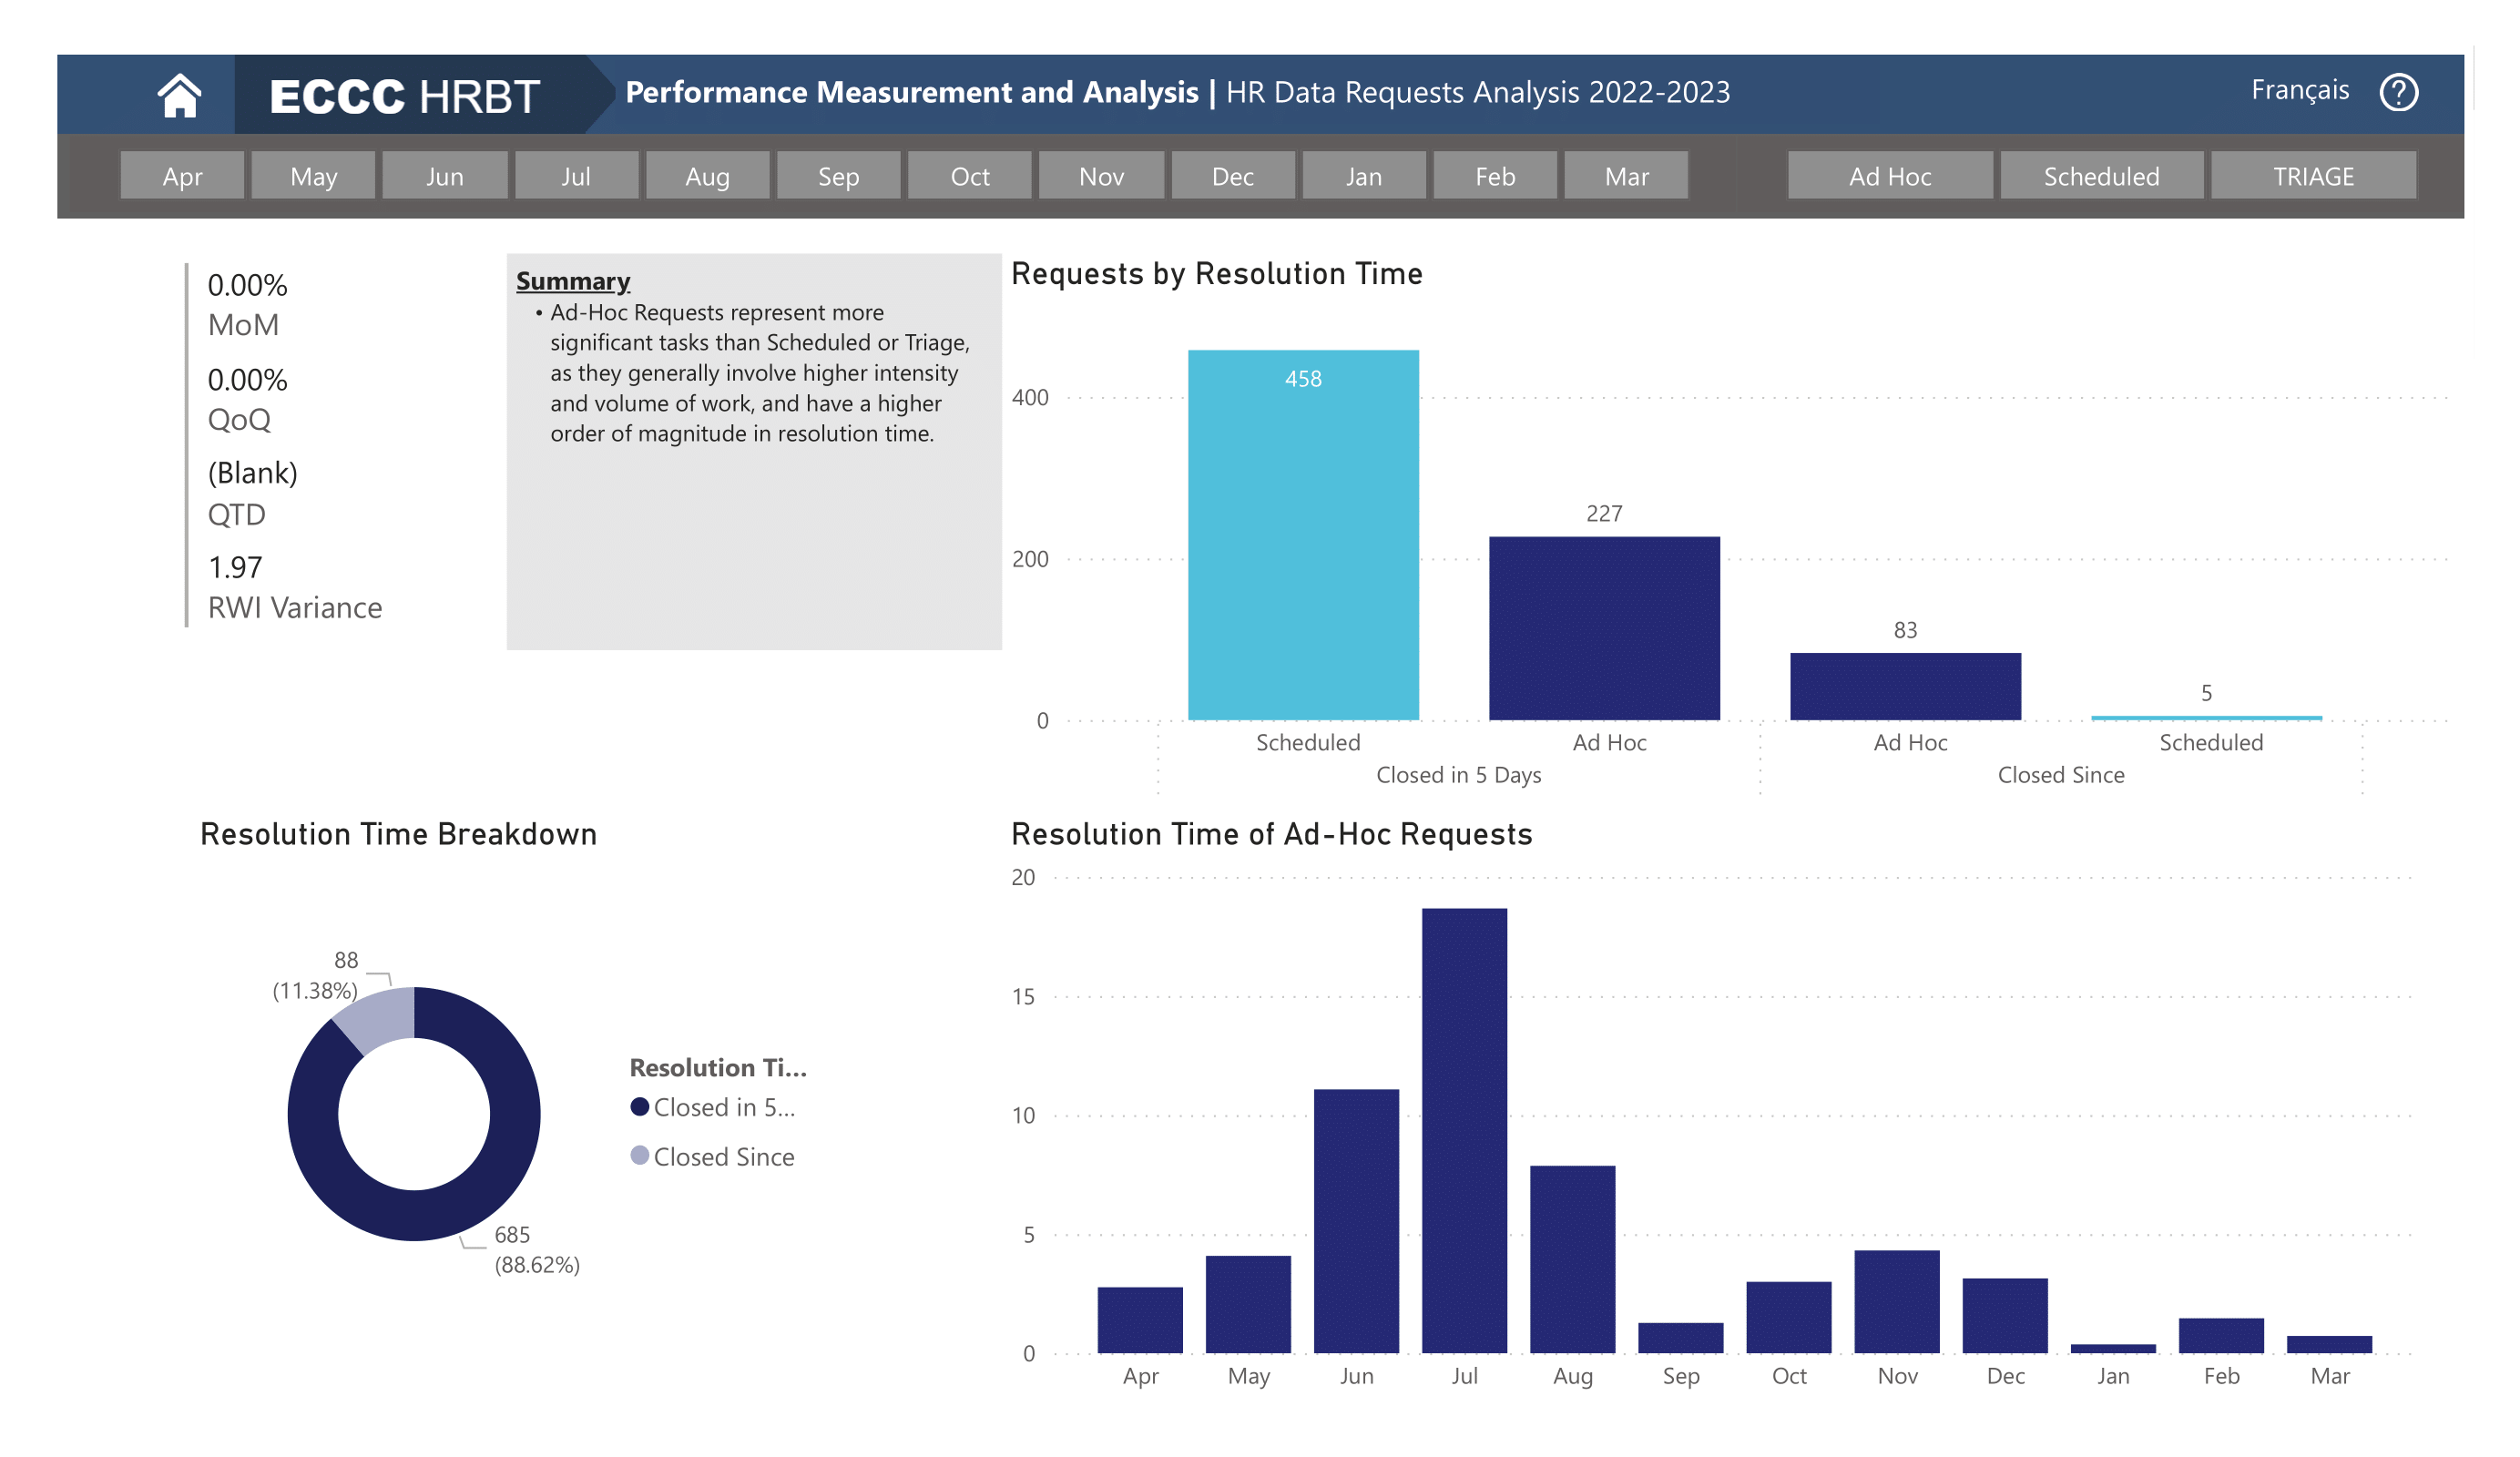

This screenshot's page, from the dashboard's own definition file:
{"tool":"powerbi","page":{"name":"Request Type Resolution","canvas":[1280,720],"ordinal":6},"visuals":[{"type":"image","box":[0.9,0,1278.3,96],"z":0},{"type":"image","box":[54.6,8.8,32.6,32.6],"z":1000},{"type":"actionButton","box":[1159.4,3.1,66.2,38.1],"z":2000},{"type":"image","box":[1225.7,8.8,30,30],"z":3000},{"type":"slicer","fields":{"Values":["MonthOrder.MonthOrderDesc"]},"box":[12.6,47.6,878.4,39.8],"z":4000},{"type":"slicer","fields":{"Values":["HR_DATA_REQUEST_REPORT.INC_CAT_N"]},"box":[891,47.6,382.8,39.8],"z":5000},{"type":"donutChart","title":"Resolution Time Breakdown","fields":{"Category":["HR_DATA_REQUEST_REPORT.CLOSEDIN5DAYS"],"Y":["CountNonNull(HR_DATA_REQUEST_REPORT.INCIDENT_REF)"]},"box":[76.7,405.6,333.3,296.7],"z":6000},{"type":"multiRowCard","fields":{"Values":["HR_DATA_REQUEST_REPORT.Count of INCIDENT_REF MoM%","HR_DATA_REQUEST_REPORT.Count of INCIDENT_REF QoQ%","HR_DATA_REQUEST_REPORT.Count of INCIDENT_REF QTD","HR_DATA_REQUEST_REPORT.Requests Weighted Index Variance"]},"box":[67.8,108.9,175.6,208.9],"z":7000},{"type":"columnChart","title":"Requests by Resolution Time","fields":{"Category":["HR_DATA_REQUEST_REPORT.CLOSEDIN5DAYS","HR_DATA_REQUEST_REPORT.INC_CAT_N"],"Y":["CountNonNull(HR_DATA_REQUEST_REPORT.INCIDENT_REF)"]},"box":[504.4,108.9,770,296.7],"z":8000},{"type":"columnChart","title":"Resolution Time of Ad-Hoc Requests","fields":{"Category":["MonthOrder.MonthOrderDesc"],"Y":["Avg(HR_DATA_REQUEST_REPORT.RESOLUTION_TIME)"]},"box":[504.4,405.6,751.1,314.4],"z":9000},{"type":"textbox","box":[243.3,108.9,261.1,208.9],"z":10000},{"type":"textbox","box":[300,8,666,33],"z":11000}]}

Visuals, with their boxes on the page's 1280x720 design canvas (x1, y1, x2, y2). These are canvas units, not pixel positions in the 2520x1457 screenshot, which may show the page scaled, cropped or inside an application window:
image: x1=1, y1=0, x2=1279, y2=96
image: x1=55, y1=9, x2=87, y2=41
actionButton: x1=1159, y1=3, x2=1226, y2=41
image: x1=1226, y1=9, x2=1256, y2=39
slicer - MonthOrder.MonthOrderDesc: x1=13, y1=48, x2=891, y2=87
slicer - HR_DATA_REQUEST_REPORT.INC_CAT_N: x1=891, y1=48, x2=1274, y2=87
"Resolution Time Breakdown" donutChart: x1=77, y1=406, x2=410, y2=702
multiRowCard - HR_DATA_REQUEST_REPORT.Count of INCIDENT_REF MoM% x HR_DATA_REQUEST_REPORT.Count of INCIDENT_REF QoQ%: x1=68, y1=109, x2=243, y2=318
"Requests by Resolution Time" columnChart: x1=504, y1=109, x2=1274, y2=406
"Resolution Time of Ad-Hoc Requests" columnChart: x1=504, y1=406, x2=1256, y2=720
textbox: x1=243, y1=109, x2=504, y2=318
textbox: x1=300, y1=8, x2=966, y2=41
